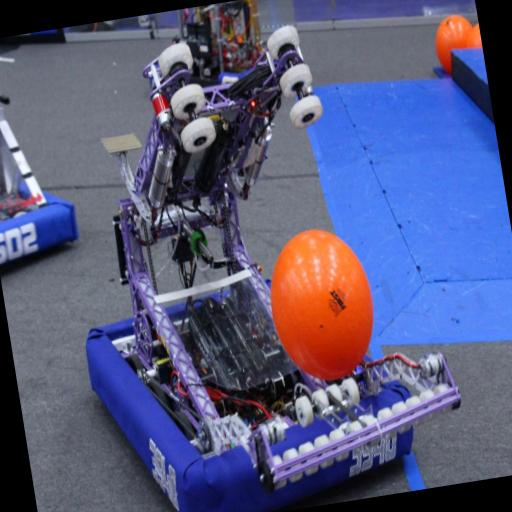robot: (38, 1, 477, 512), (0, 65, 81, 270), (167, 0, 290, 115)
